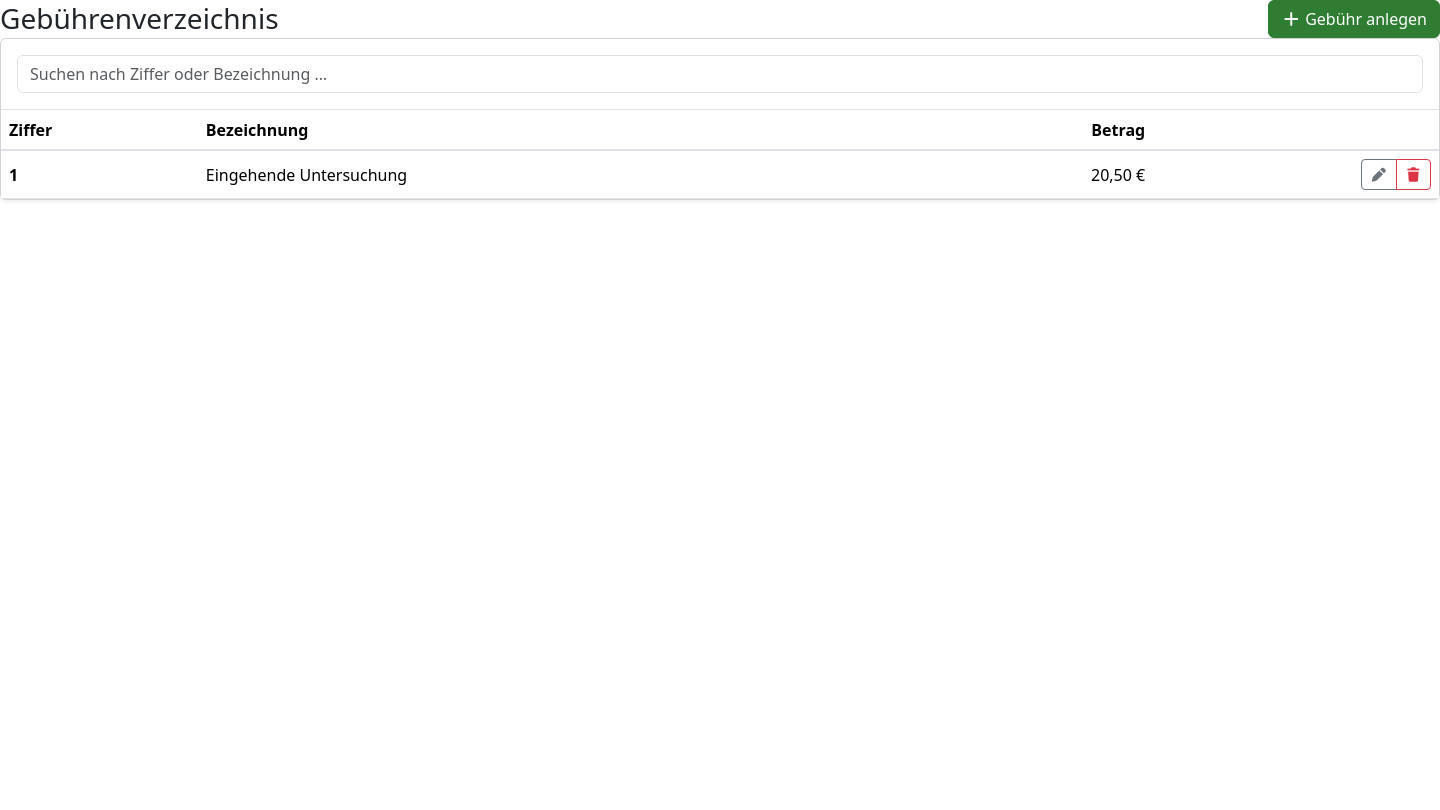
it: Gebührenverzeichnis › sollte eine Gebühr nach Rückfrage entfernen
This screenshot has width=1440, height=810.
What coordinates should you click on to do the following:
click the button named "Gebühr 1 entfernen"
I would click on:
 (1413, 174)
Its box is x1=1396 y1=159 x2=1431 y2=190.
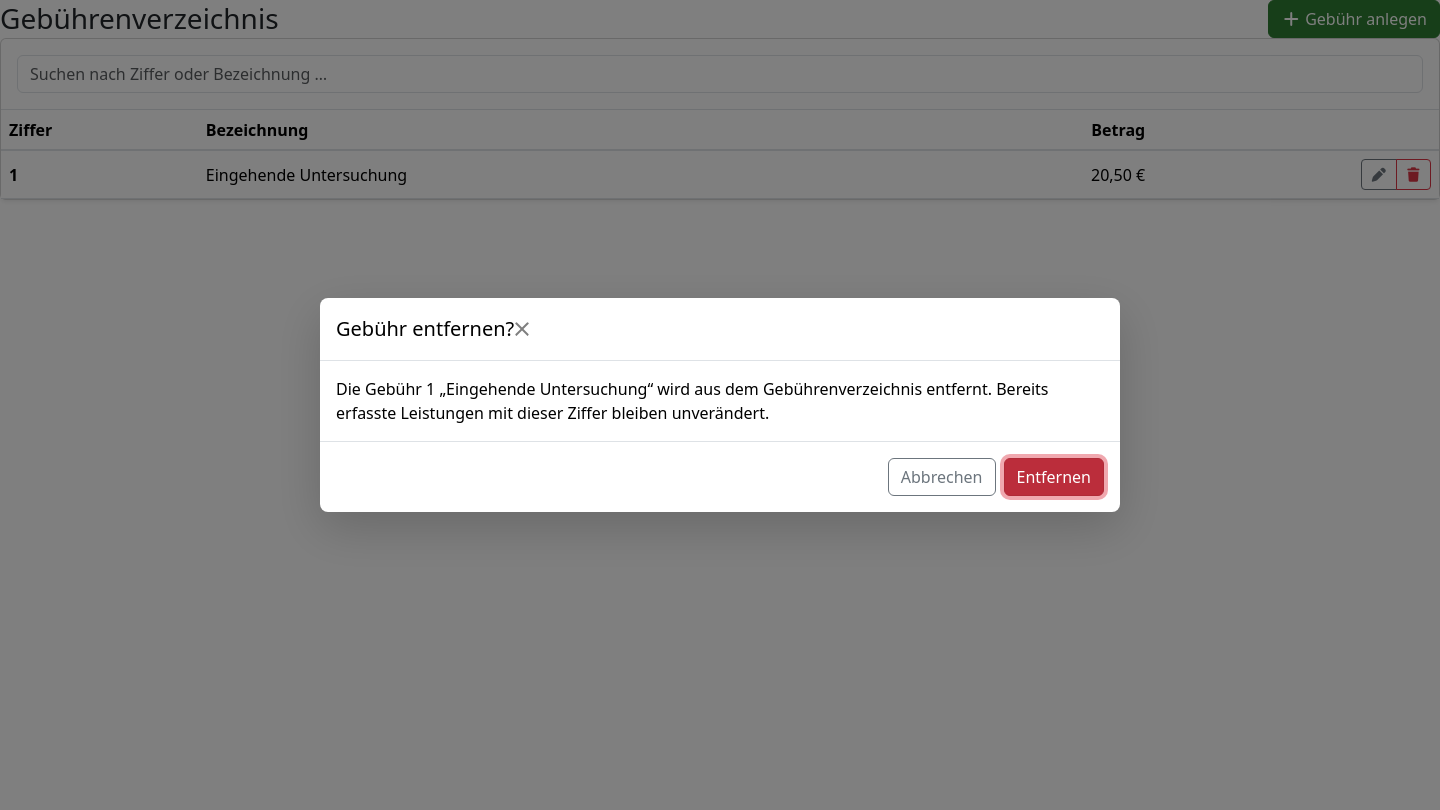
What coordinates should you click on to do the following:
click the button "Entfernen"
I would click on:
 (1054, 477)
Its box is x1=1004 y1=458 x2=1104 y2=496.
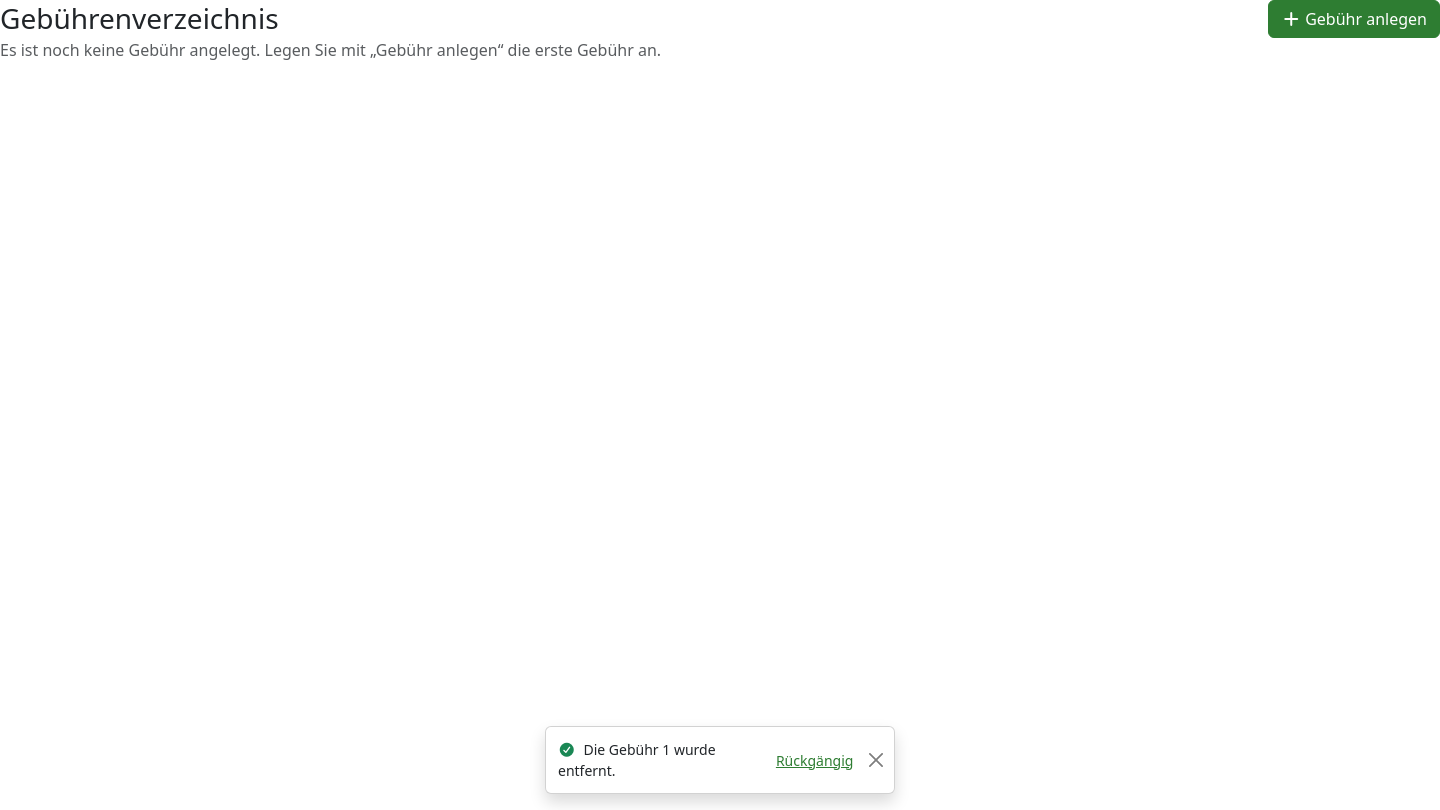
Result: the text "Die Gebühr 1 wurde entfernt." is shown at x1=558 y1=740 x2=716 y2=780
Result: the text "Es ist noch keine Gebühr angelegt." is shown at x1=0 y1=39 x2=661 y2=61
